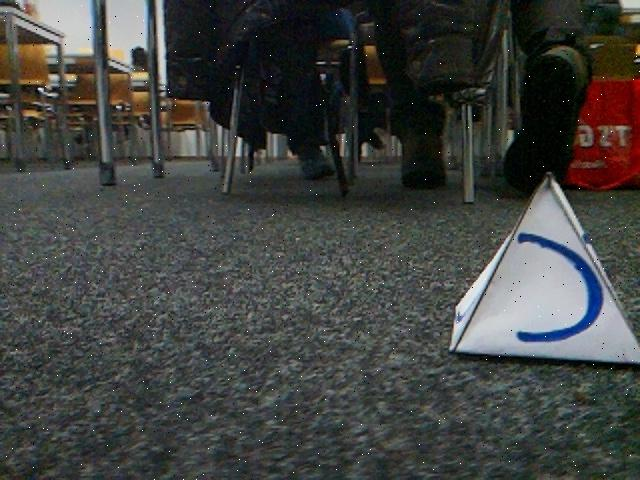C: (447, 172, 640, 359)
